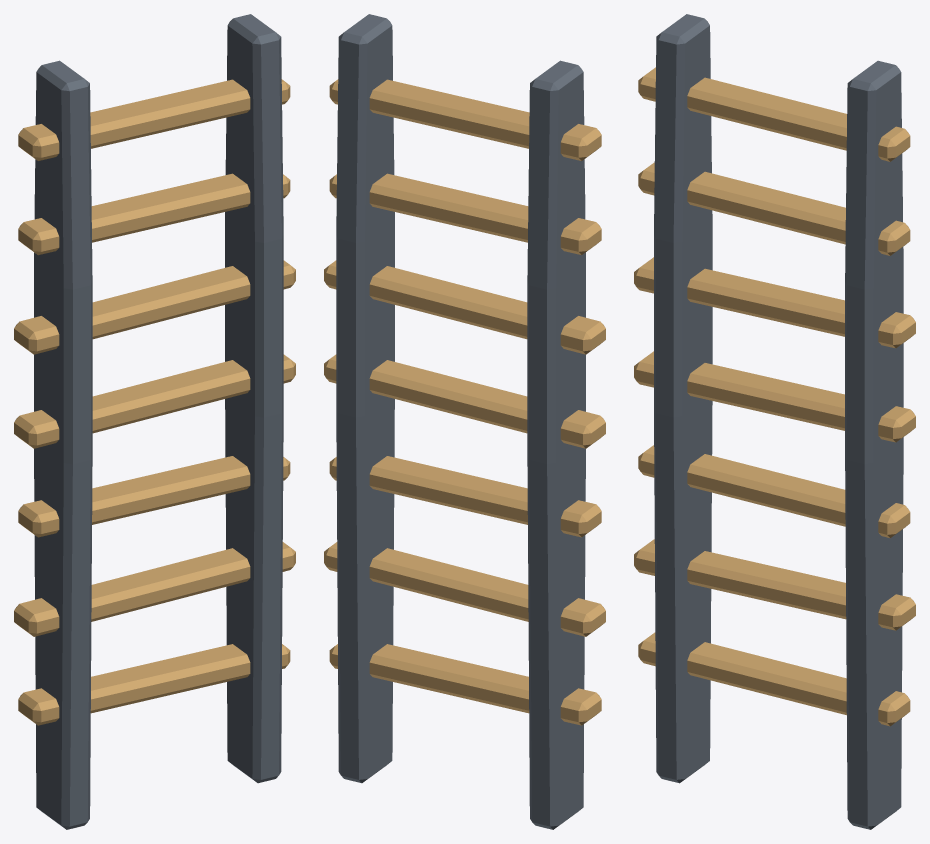
File: ladder_ashort.gltf
The picture shows the model from 3 angles, left to right: view 1: azimuth 30°, elevation 25°; view 2: azimuth 150°, elevation 25°; view 3: azimuth 330°, elevation 25°; orthographic projection.
Parts seen in each view (by area): view 1: ladder_ashort001; view 2: ladder_ashort001; view 3: ladder_ashort001.
Part boxes in pixels (box(x1,y1,x2,y2)): ladder_ashort001: box(14, 14, 295, 829); ladder_ashort001: box(324, 14, 605, 829); ladder_ashort001: box(634, 14, 915, 829).
Size of the model in its own units: 0.7437 by 1.98 by 0.18.
Materials: 1 (1 with a texture image).
